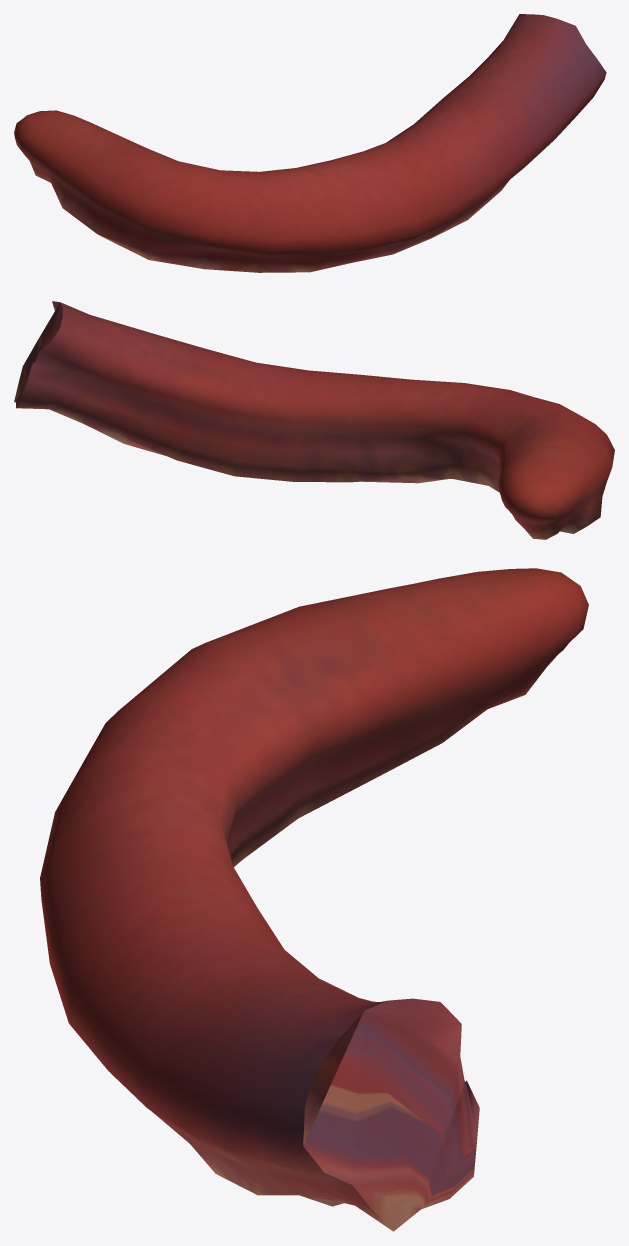
The model's file is tentaculo2.obj.
3 renders of one model, top to bottom at view 1: azimuth 30°, elevation 25°; view 2: azimuth 150°, elevation 25°; view 3: azimuth 270°, elevation 25°, orthographic. The views are drawn at different scales.
Visible parts, largest first — view 1: Octopus1; view 2: Octopus1; view 3: Octopus1.
Part boxes in pixels (bbox=[...]): Octopus1: bbox=[14, 14, 606, 272]; Octopus1: bbox=[14, 301, 614, 539]; Octopus1: bbox=[40, 568, 588, 1231].
Size of the model in its own units: 388 by 98.66 by 170.
1 material, 1 textured.
